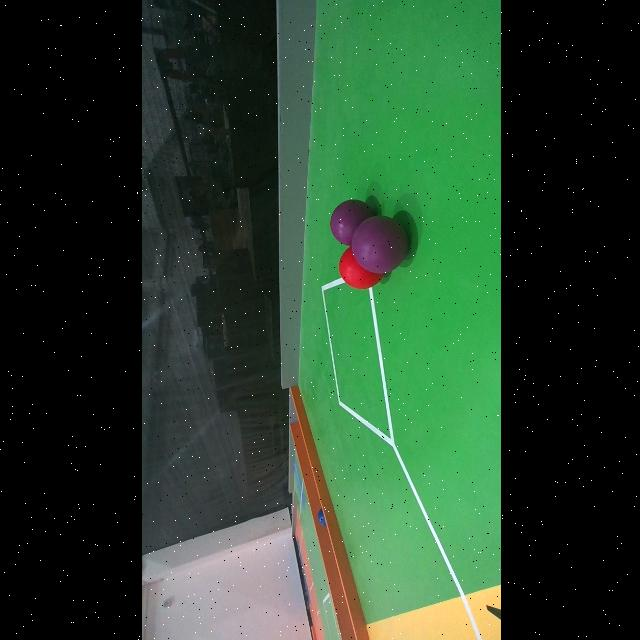P: (349, 216, 406, 274), (328, 193, 367, 247)
R: (338, 246, 382, 288)
